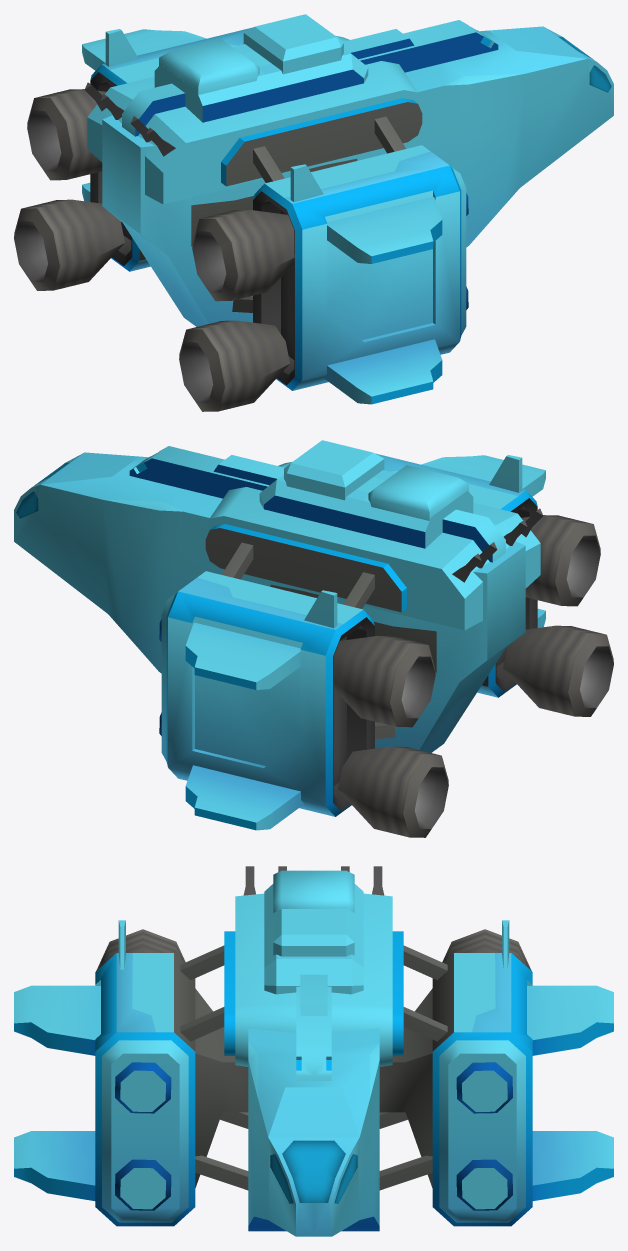
Rendered from EnemyShip3.fbx.
3 renders of one model, top to bottom at view 1: azimuth 30°, elevation 25°; view 2: azimuth 150°, elevation 25°; view 3: azimuth 270°, elevation 25°, orthographic. The views are drawn at different scales.
Parts seen in each view (by area): view 1: Enemy3Parts.001, Enemy3Parts.003, Enemy3Parts.005, Enemy3Parts.002, Enemy3Parts.004; view 2: Enemy3Parts.001, Enemy3Parts.005, Enemy3Parts.003, Enemy3Parts.004, Enemy3Parts.002; view 3: Enemy3Parts.001, Enemy3Parts.002, Enemy3Parts.004.
Part boxes in pixels (x1,y1,x2,y2): Enemy3Parts.001: (82,14,613,404); Enemy3Parts.003: (179,320,289,411); Enemy3Parts.005: (14,199,124,290); Enemy3Parts.002: (192,210,294,301); Enemy3Parts.004: (27,89,106,180); Enemy3Parts.001: (14,440,545,830); Enemy3Parts.005: (338,746,448,837); Enemy3Parts.003: (503,625,613,716); Enemy3Parts.004: (333,636,435,727); Enemy3Parts.002: (521,515,600,606); Enemy3Parts.001: (14,866,613,1236); Enemy3Parts.002: (96,929,185,970); Enemy3Parts.004: (442,929,531,970).
Bounding box in the file's own units: 4.47 × 4.56 × 2.4.
